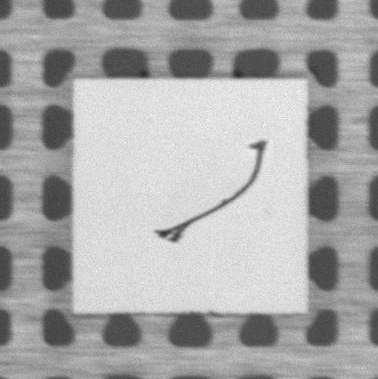DIE_INK: (136, 136, 287, 251)
